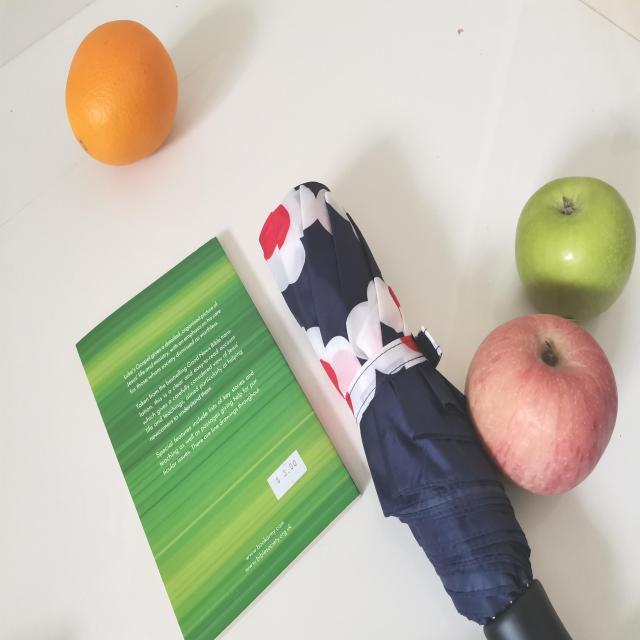Apple: (464, 310, 616, 499), (514, 173, 635, 329)
Book: (69, 236, 366, 640)
Orange: (65, 18, 179, 165)
